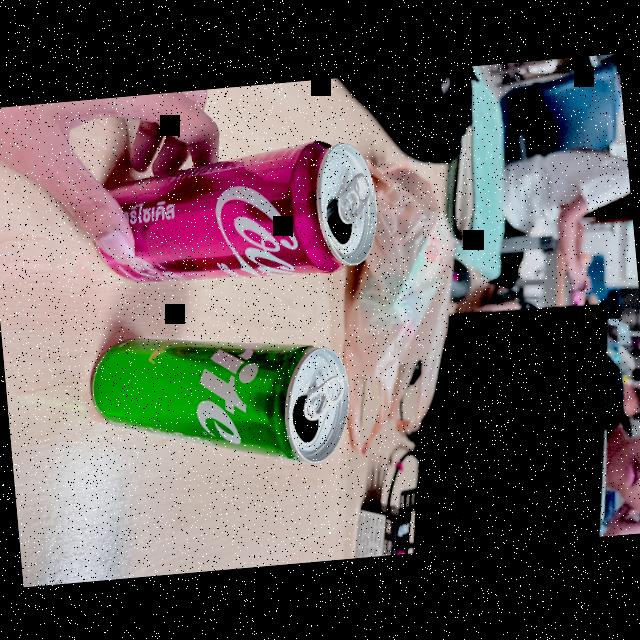can: (68, 288, 356, 499), (87, 132, 396, 296)
